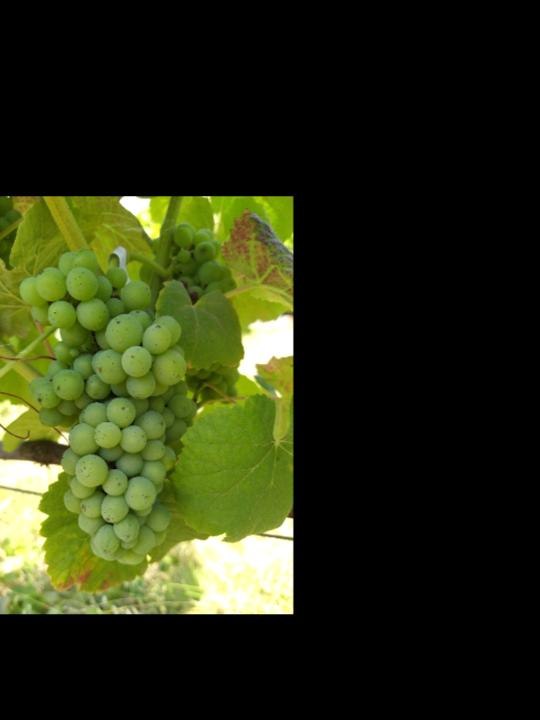grape: (19, 245, 200, 567)
